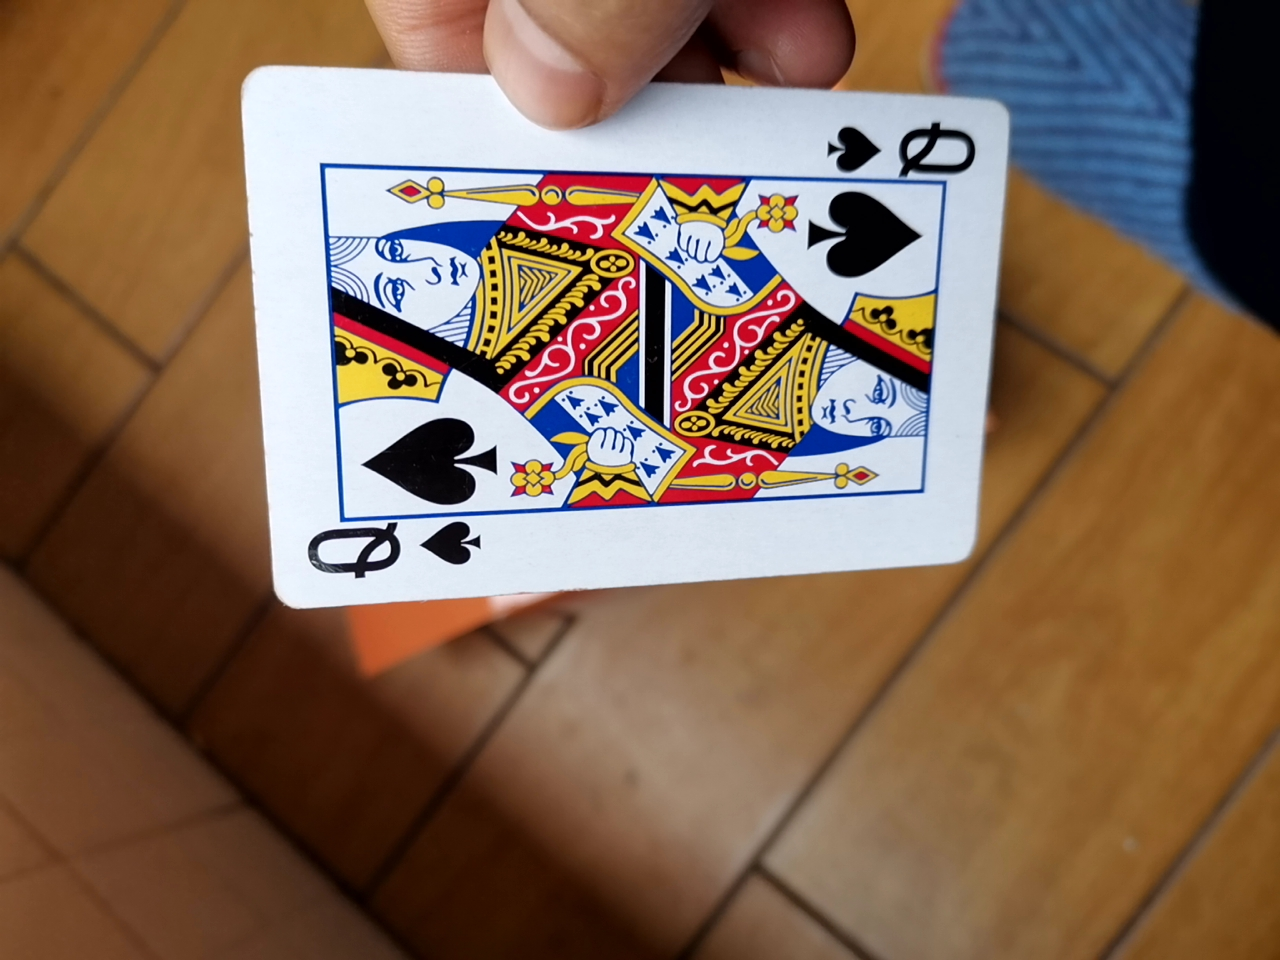ht q: (226, 82, 999, 631)
